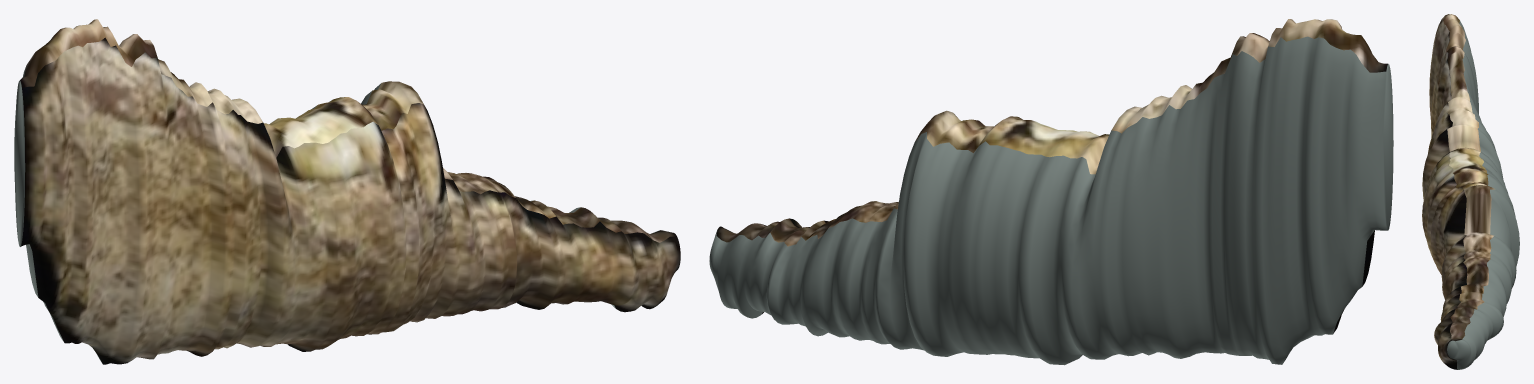
Rendered from MandibolaDH3.glb.
3 renders of one model, left to right at view 1: azimuth 30°, elevation 25°; view 2: azimuth 150°, elevation 25°; view 3: azimuth 270°, elevation 25°, orthographic. The views are drawn at different scales.
Parts seen in each view (by area): view 1: MandibolaDH3; view 2: MandibolaDH3; view 3: MandibolaDH3.
Part boxes in pixels (x1,y1,x2,y2): MandibolaDH3: (14,19,680,364); MandibolaDH3: (709,19,1393,365); MandibolaDH3: (1422,14,1519,369).
Bounding box in the file's own units: 0.1022 × 0.0626 × 0.0262.
3 materials, 2 textured.
